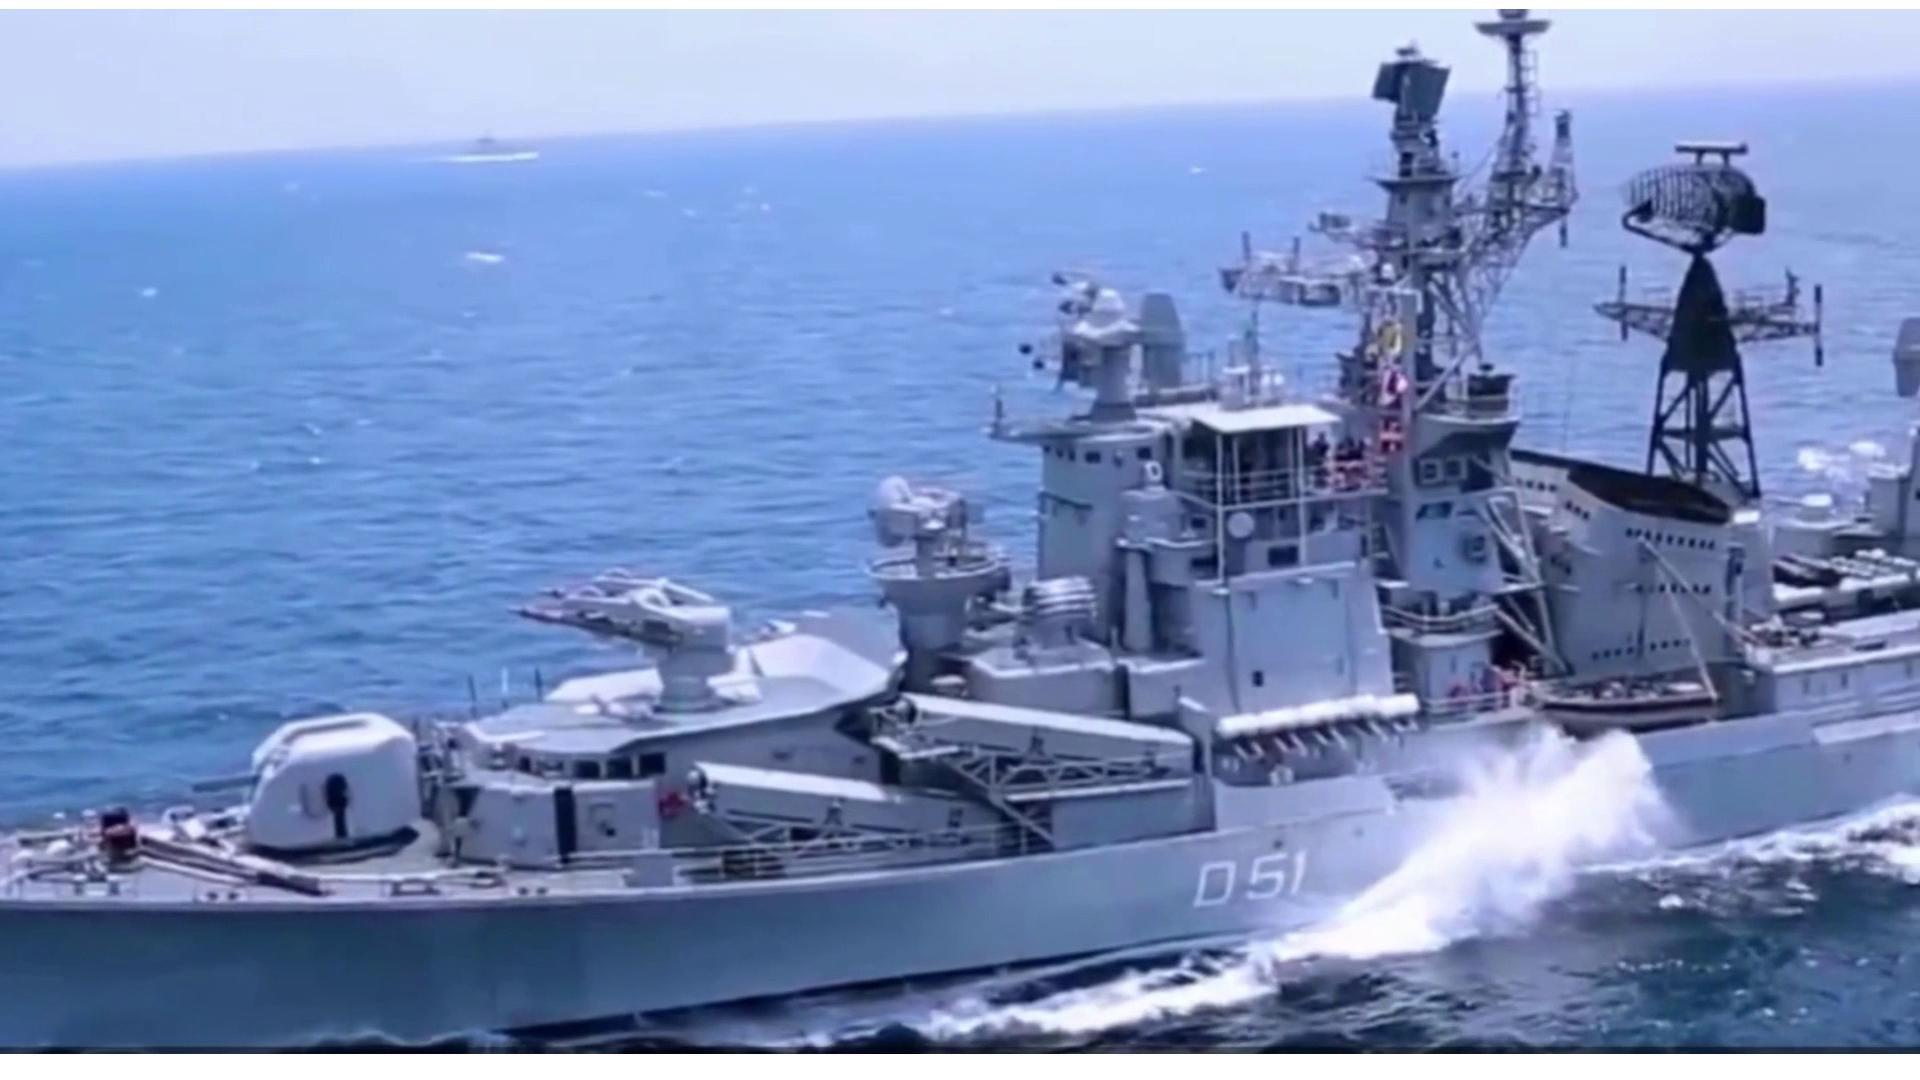OCR: (1178, 840, 1316, 924)
